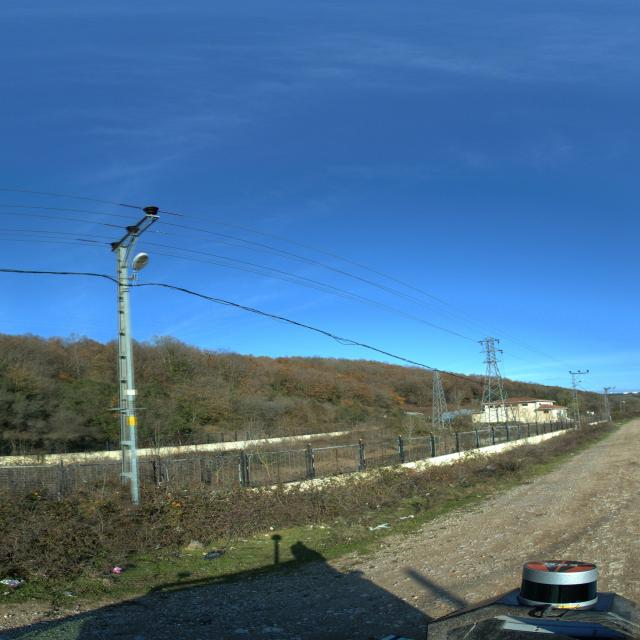Utility Pole Information Plate: (126, 416, 137, 426)
